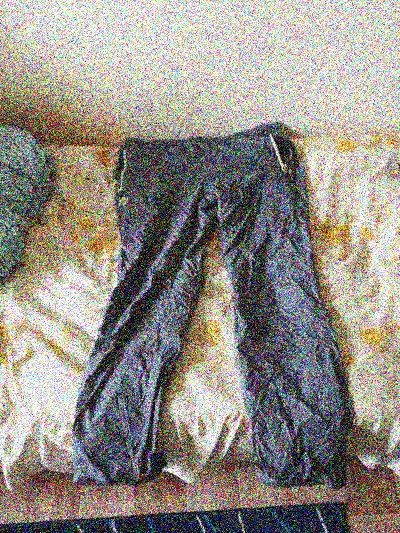Pants: (60, 98, 334, 496)
